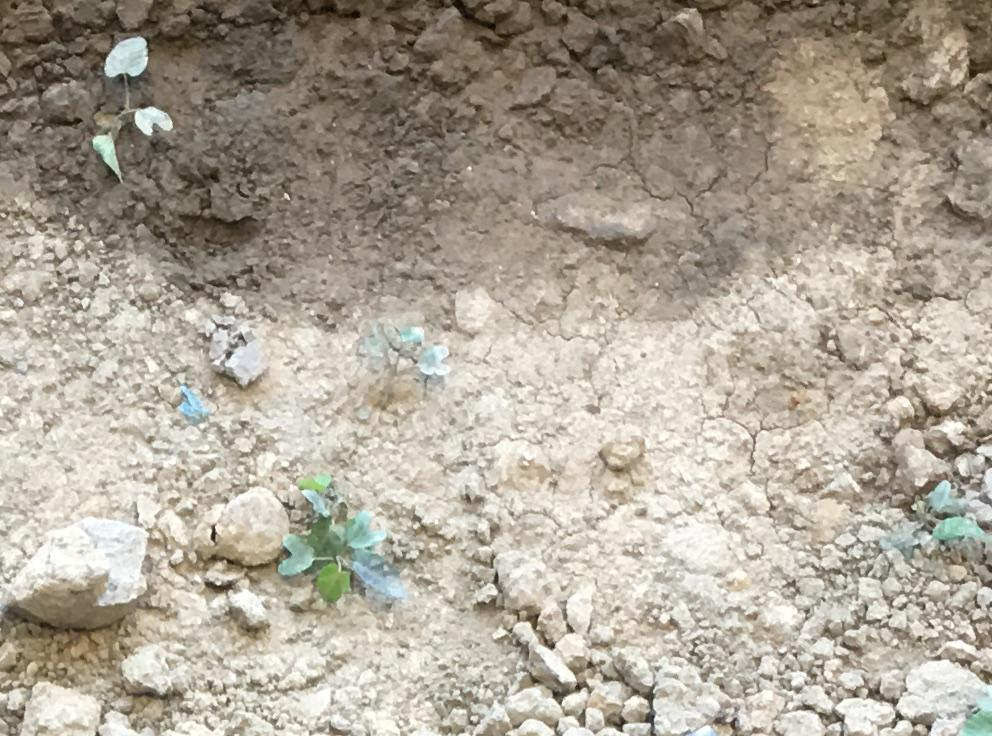block: (3, 520, 152, 640)
